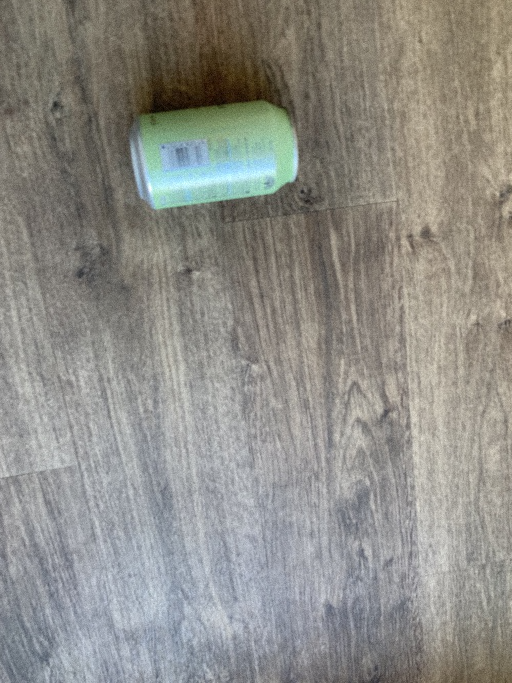can_s: (128, 99, 301, 207)
